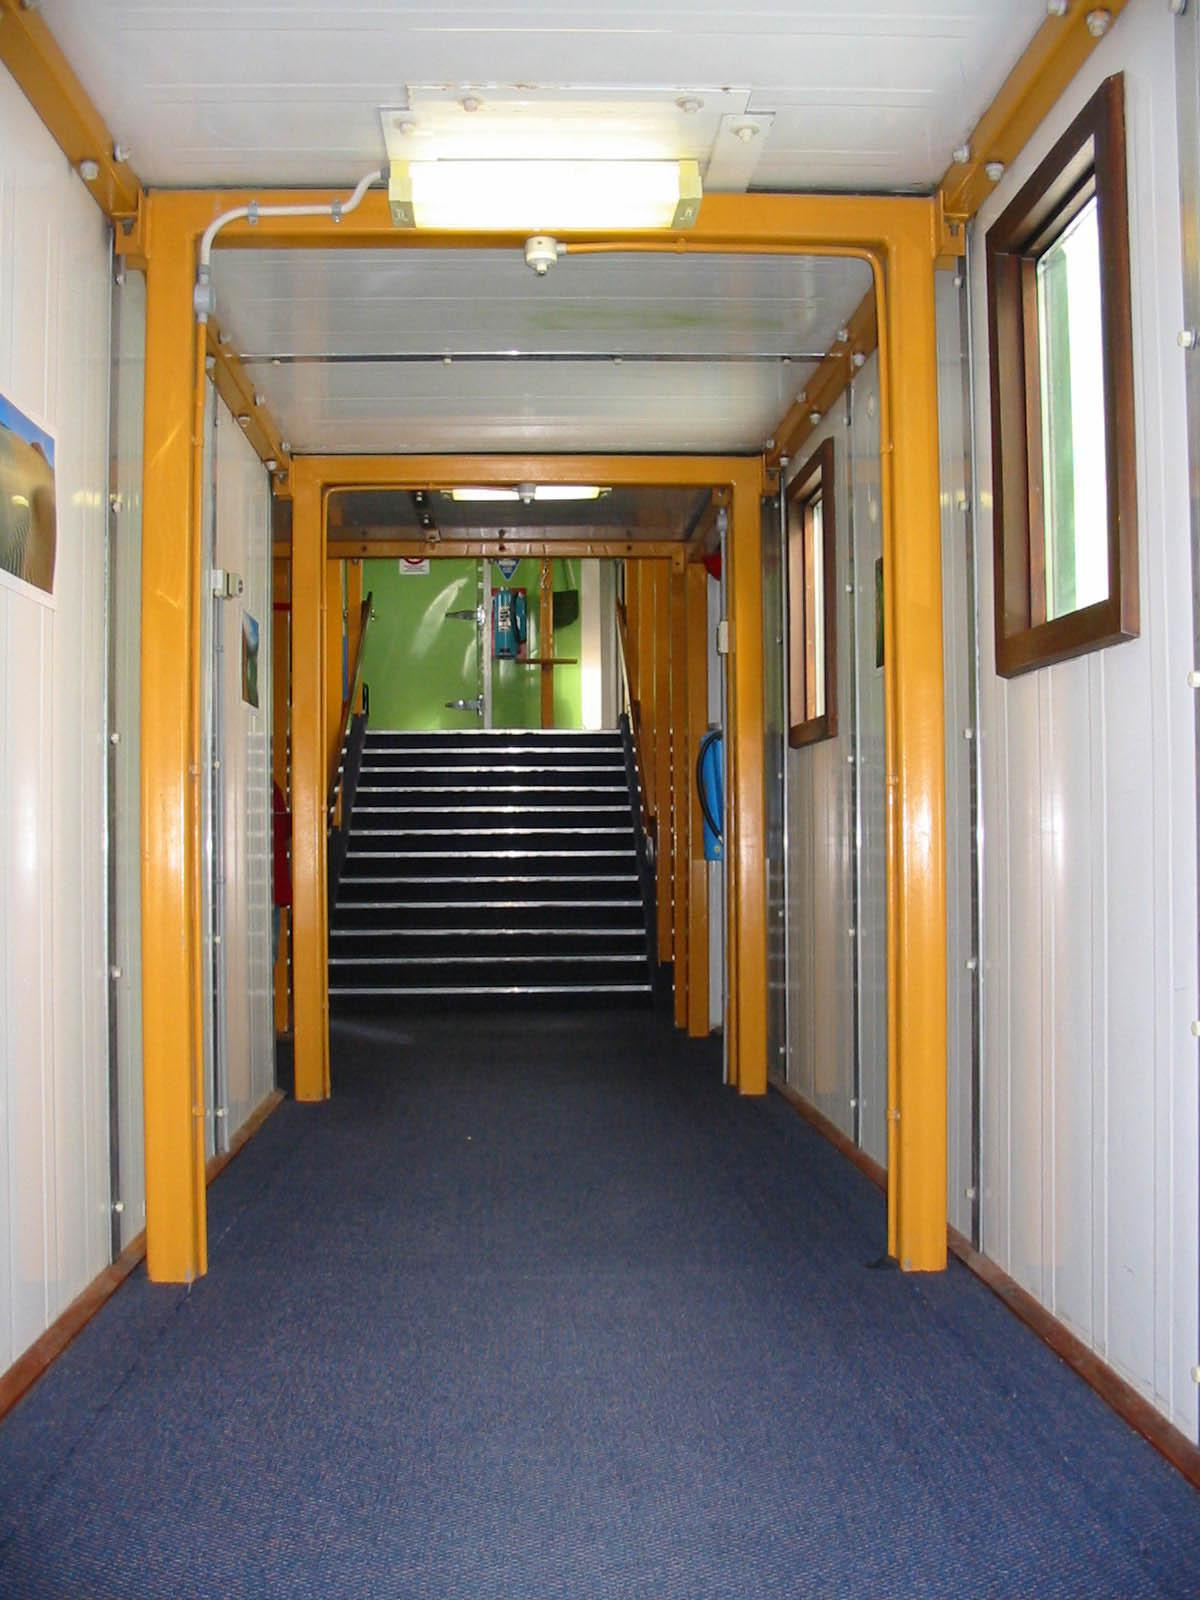Escaleras: (332, 721, 658, 988)
